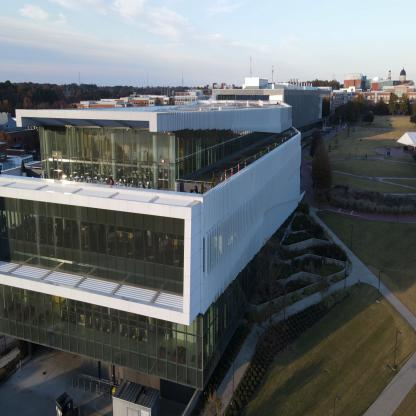Fitts- Woolard: (286, 76, 334, 140)
Hunt Library: (0, 41, 305, 390)
